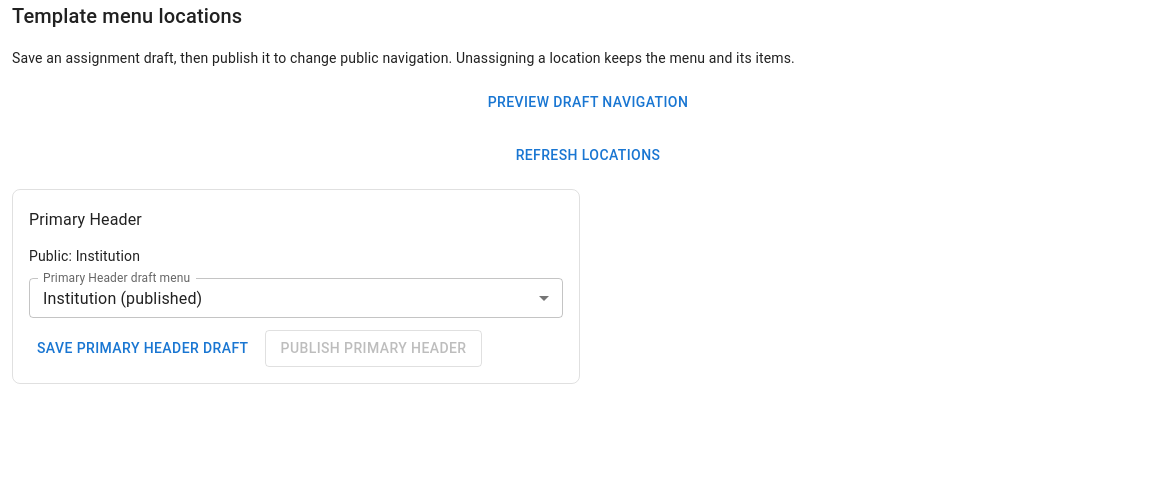
Test: retains a selection after a conflict and offers a refresh action
Select "Unassigned" in the dropdown labelled "Primary Header draft menu" at {"x": 296, "y": 298}, box top-left (29, 278), bottom-right (563, 318)
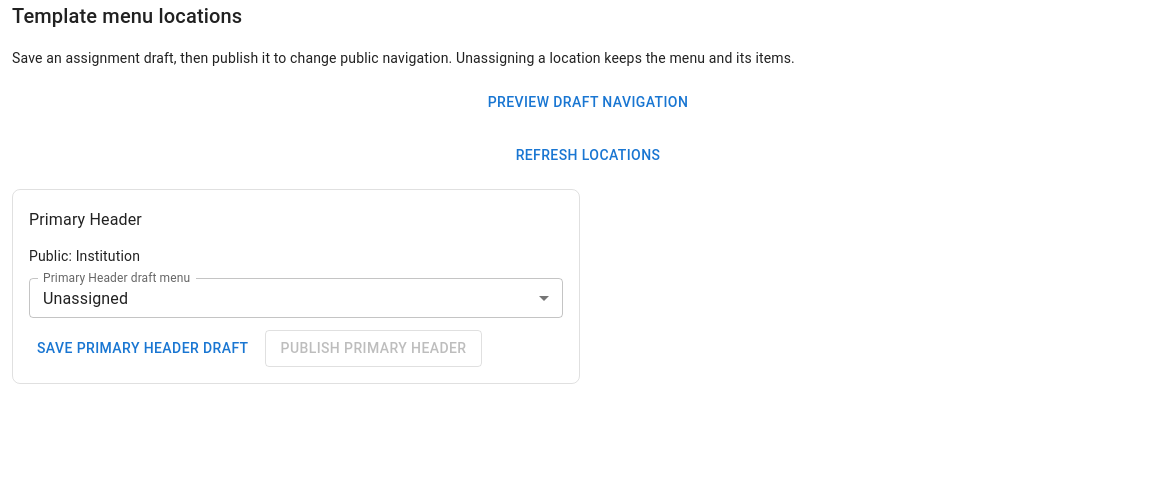
Click the button "Save Primary Header draft" at {"x": 143, "y": 348}, box top-left (29, 330), bottom-right (256, 366)
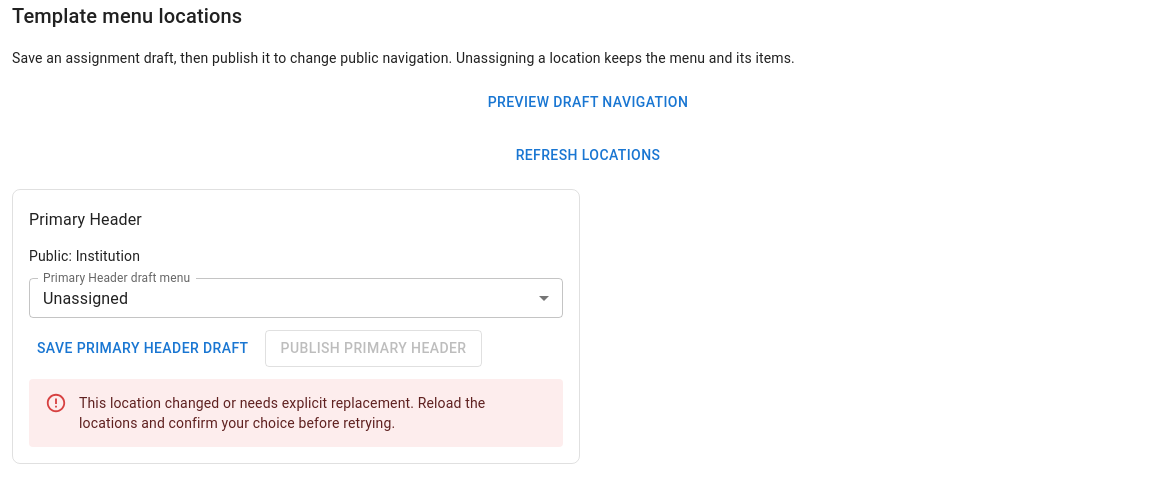
Expected: the button "Refresh locations" is shown, top-left (12, 136), bottom-right (1164, 173)
Expected: the message shows "This location changed", top-left (79, 394), bottom-right (485, 430)
